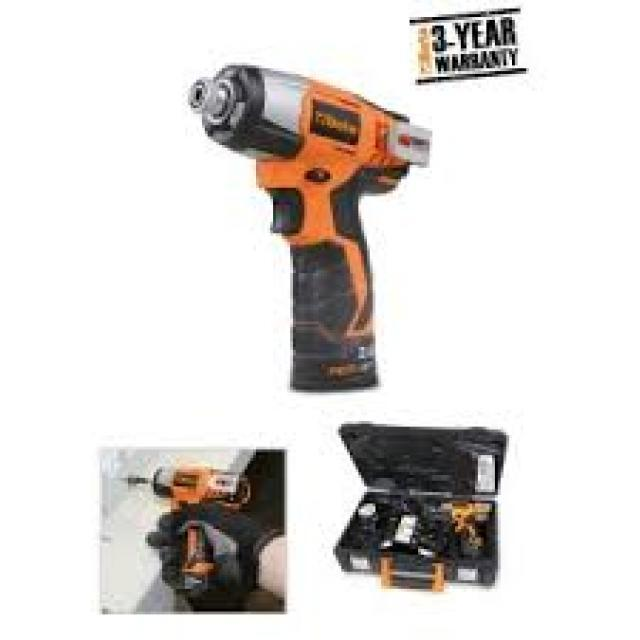drill: (176, 53, 442, 394), (122, 461, 256, 588)
